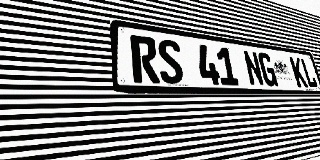1: (214, 46, 239, 85)
4: (195, 44, 221, 85)
G: (257, 52, 278, 86)
K: (289, 56, 308, 87)
L: (300, 58, 318, 88)
N: (242, 50, 265, 86)
R: (130, 35, 160, 83)
S: (156, 38, 185, 84)
